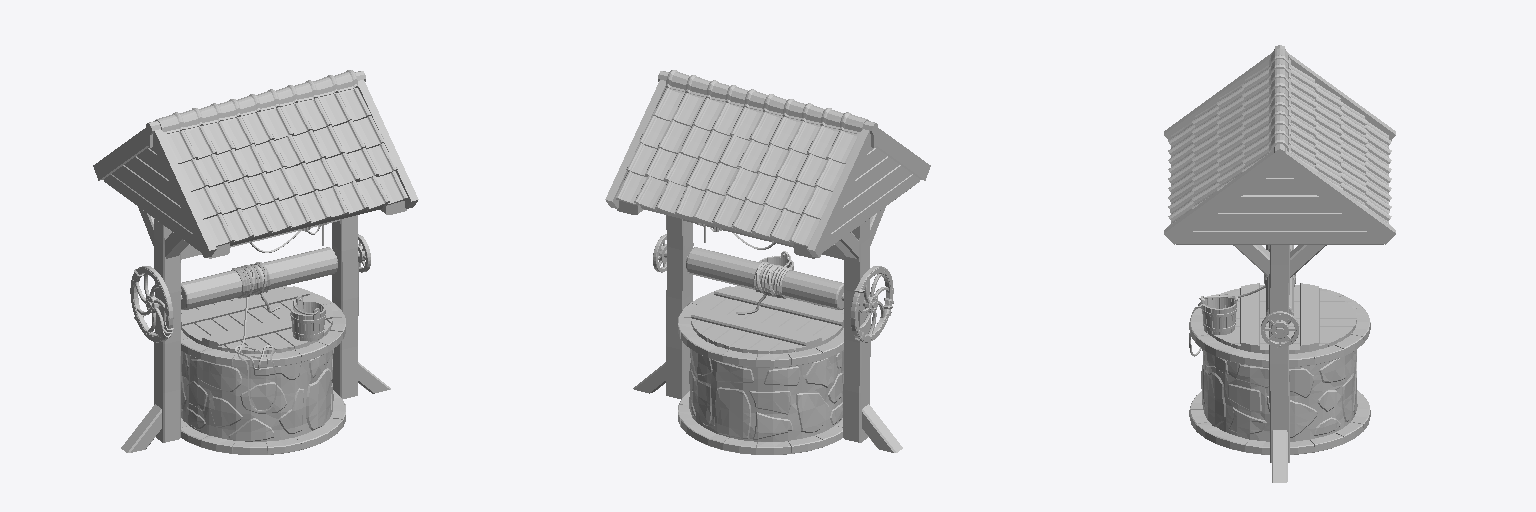
The model's file is well.obj.
3 views of the same model, side by side, from view 1: azimuth 30°, elevation 25°; view 2: azimuth 150°, elevation 25°; view 3: azimuth 270°, elevation 25° (orthographic).
Parts seen in each view (by area): view 1: Base_L_M_Well_Roof_0, Base_L_M_Well_Base_0, Base_L_M_Well_WheelAcc_0; view 2: Base_L_M_Well_Roof_0, Base_L_M_Well_Base_0, Base_L_M_Well_WheelAcc_0; view 3: Base_L_M_Well_Roof_0, Base_L_M_Well_Base_0, Base_L_M_Well_WheelAcc_0.
Boxes of the visible parts, x1,y1,x2,y2 form: Base_L_M_Well_Roof_0: [93, 70, 418, 452]; Base_L_M_Well_Base_0: [181, 286, 345, 454]; Base_L_M_Well_WheelAcc_0: [130, 223, 370, 411]; Base_L_M_Well_Roof_0: [605, 70, 930, 452]; Base_L_M_Well_Base_0: [678, 286, 843, 454]; Base_L_M_Well_WheelAcc_0: [653, 223, 893, 342]; Base_L_M_Well_Roof_0: [1164, 45, 1395, 482]; Base_L_M_Well_Base_0: [1189, 283, 1370, 454]; Base_L_M_Well_WheelAcc_0: [1189, 245, 1298, 356].
Size of the model in its own units: 2.74 by 3.23 by 2.09.